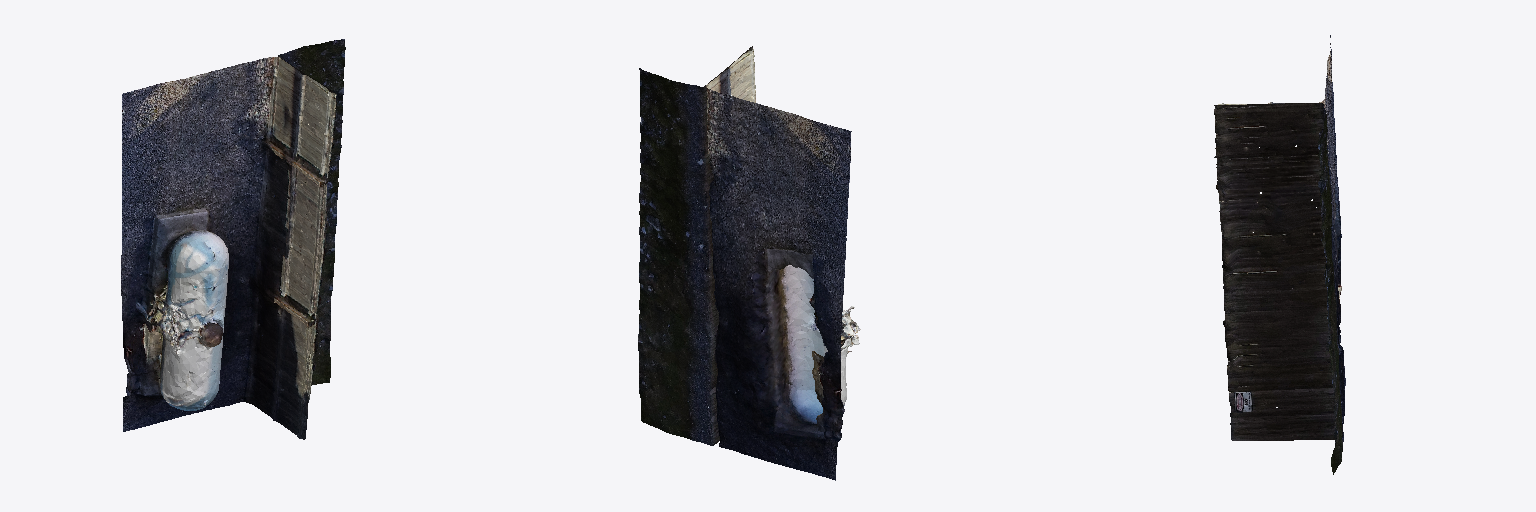
The picture shows the model from 3 angles: view 1: azimuth 30°, elevation 25°; view 2: azimuth 150°, elevation 25°; view 3: azimuth 270°, elevation 25°; orthographic projection.
Size of the model in its own units: 3.99 by 6.16 by 2.09.
Materials: 2 (1 with a texture image).